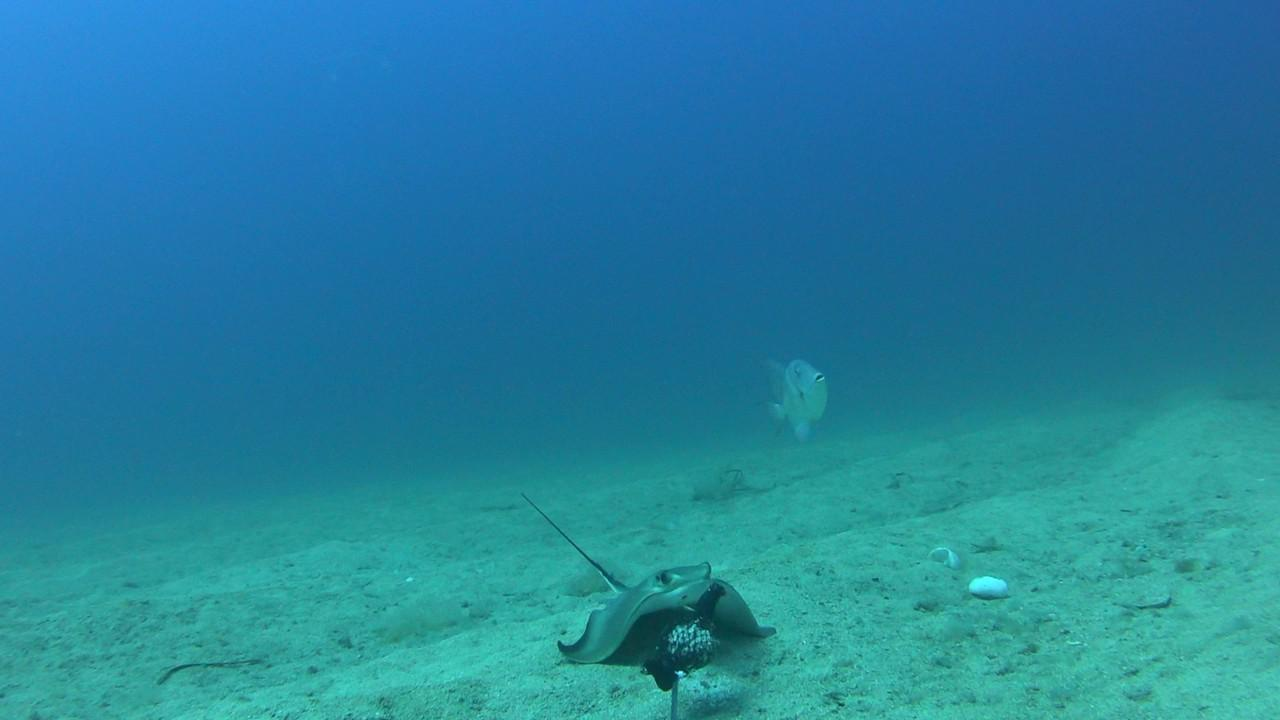balistes: (763, 351, 832, 455)
myliobatis: (503, 483, 779, 656)
